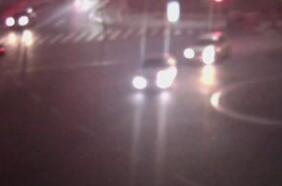car: (132, 52, 178, 90), (183, 31, 232, 65), (5, 7, 36, 28)
